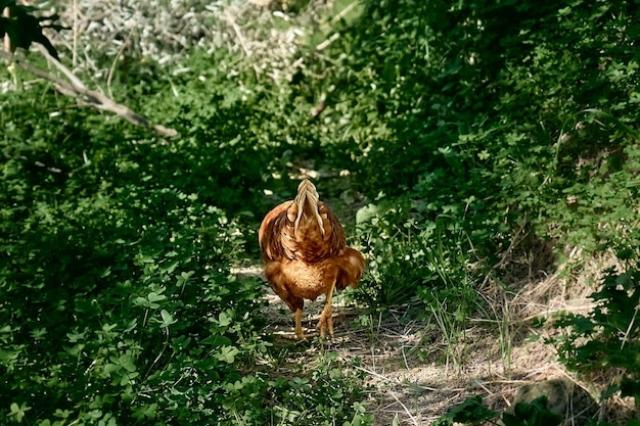Chicken: (259, 179, 364, 340)
